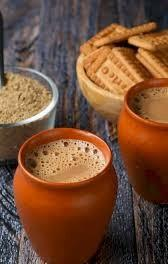Chai: (23, 138, 106, 183), (134, 87, 168, 129)
